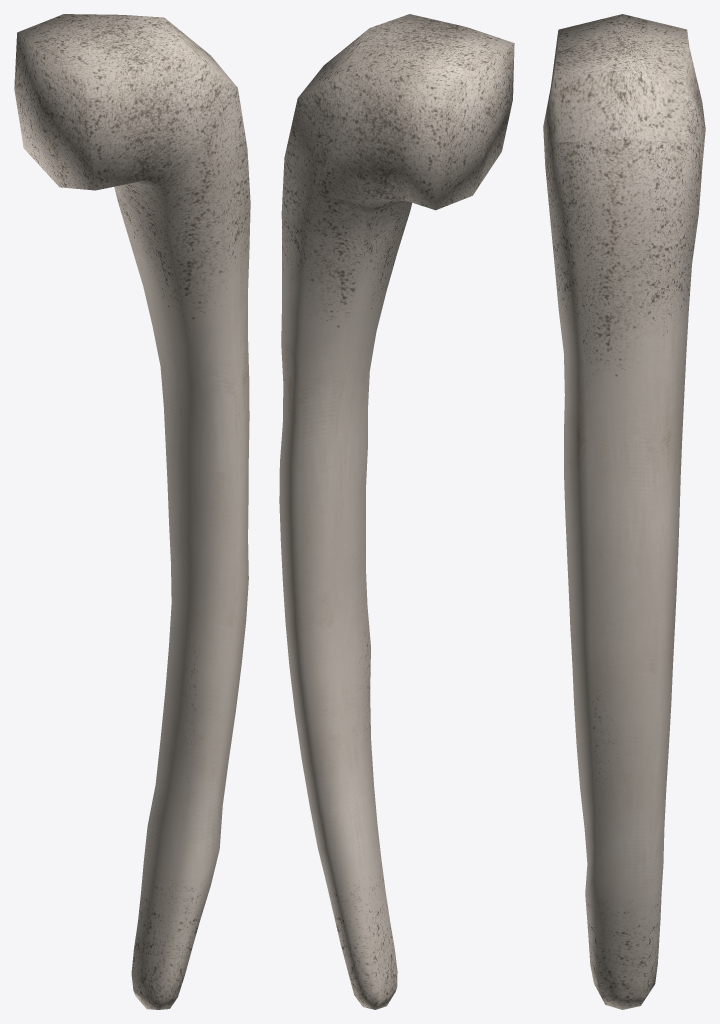
File: bone-2-fish.fbx
3 renders of one model, left to right at view 1: azimuth 30°, elevation 25°; view 2: azimuth 150°, elevation 25°; view 3: azimuth 270°, elevation 25°, orthographic. The views are drawn at different scales.
Parts seen in each view (by area): view 1: BONE 2; view 2: BONE 2; view 3: BONE 2.
Boxes of the visible parts, bbox=[...] form: BONE 2: bbox=[14, 14, 250, 1009]; BONE 2: bbox=[279, 14, 514, 1009]; BONE 2: bbox=[543, 14, 705, 1009].
Size of the model in its own units: 192 by 909 by 142.
